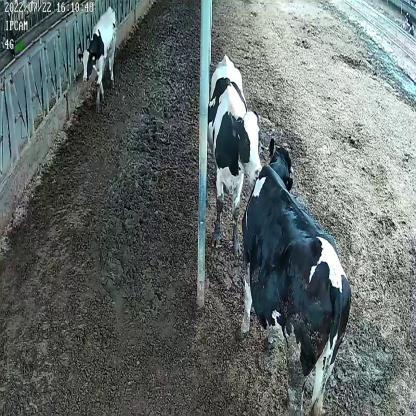cow: (236, 134, 352, 412), (205, 52, 263, 260), (80, 9, 119, 108)
